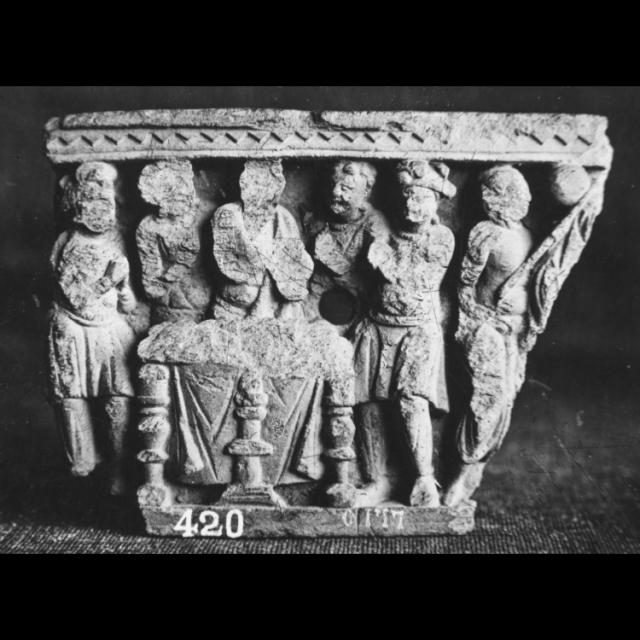buddha-sitting: (138, 160, 356, 509)
